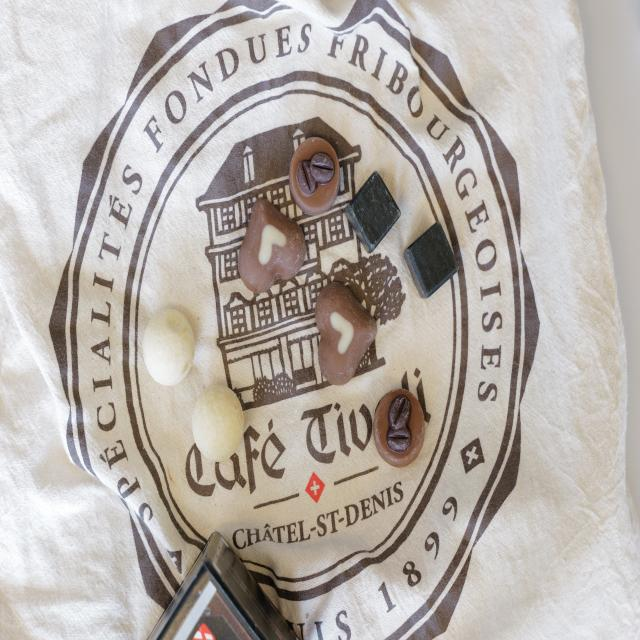Arabia: (374, 389, 425, 467), (290, 135, 338, 215)
Comtesse: (143, 310, 195, 388), (191, 386, 245, 460)
Passion_au_lait: (238, 200, 307, 294), (316, 282, 378, 385)
